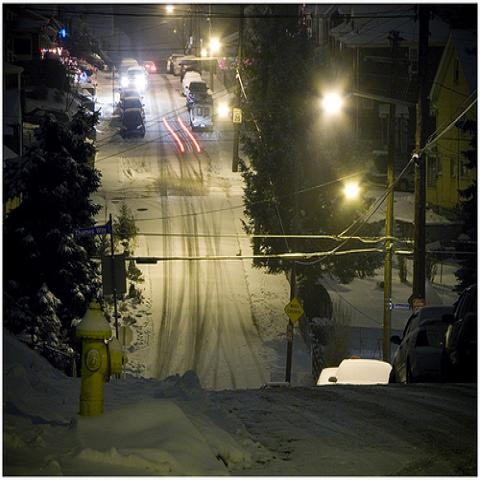car: (390, 303, 455, 383), (439, 282, 477, 383), (329, 359, 392, 385), (120, 108, 145, 138), (122, 66, 150, 92), (316, 368, 339, 388), (182, 71, 200, 95), (260, 377, 292, 387), (123, 96, 145, 109), (174, 57, 183, 76), (144, 61, 157, 73)
truck: (188, 100, 217, 136), (186, 81, 213, 106)
